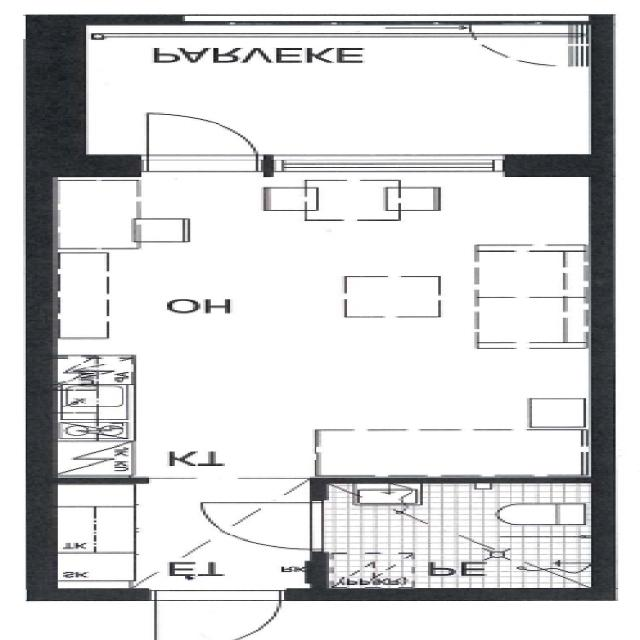door: (148, 108, 256, 176), (196, 502, 328, 550), (154, 589, 278, 640)
